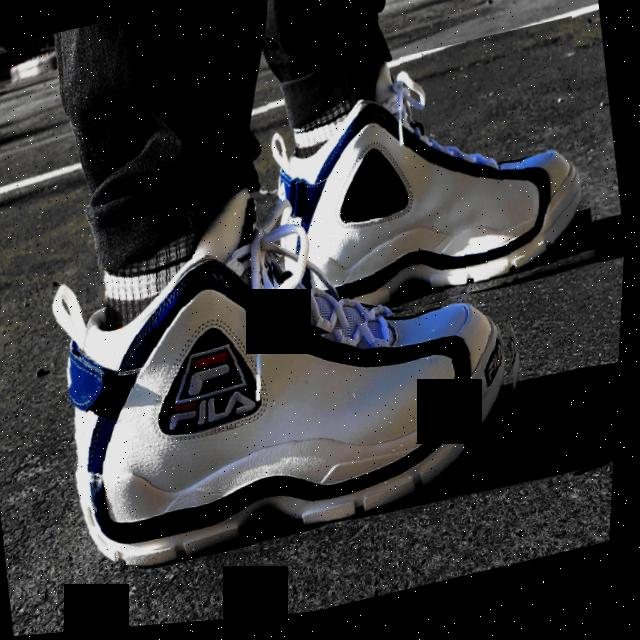shoe: (26, 126, 561, 600), (244, 24, 613, 354)
